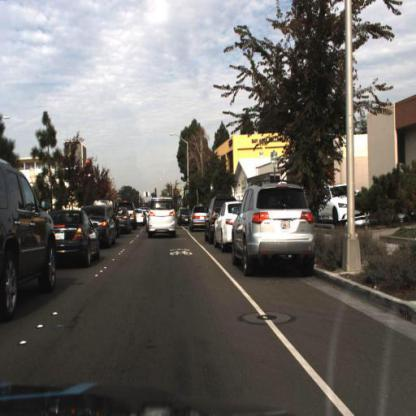car: (231, 177, 323, 291), (1, 157, 57, 317), (54, 205, 102, 276), (313, 181, 366, 230), (144, 195, 182, 243), (97, 199, 121, 256), (214, 202, 236, 258), (188, 200, 207, 236), (204, 196, 217, 247), (119, 204, 132, 236), (128, 202, 138, 230)
